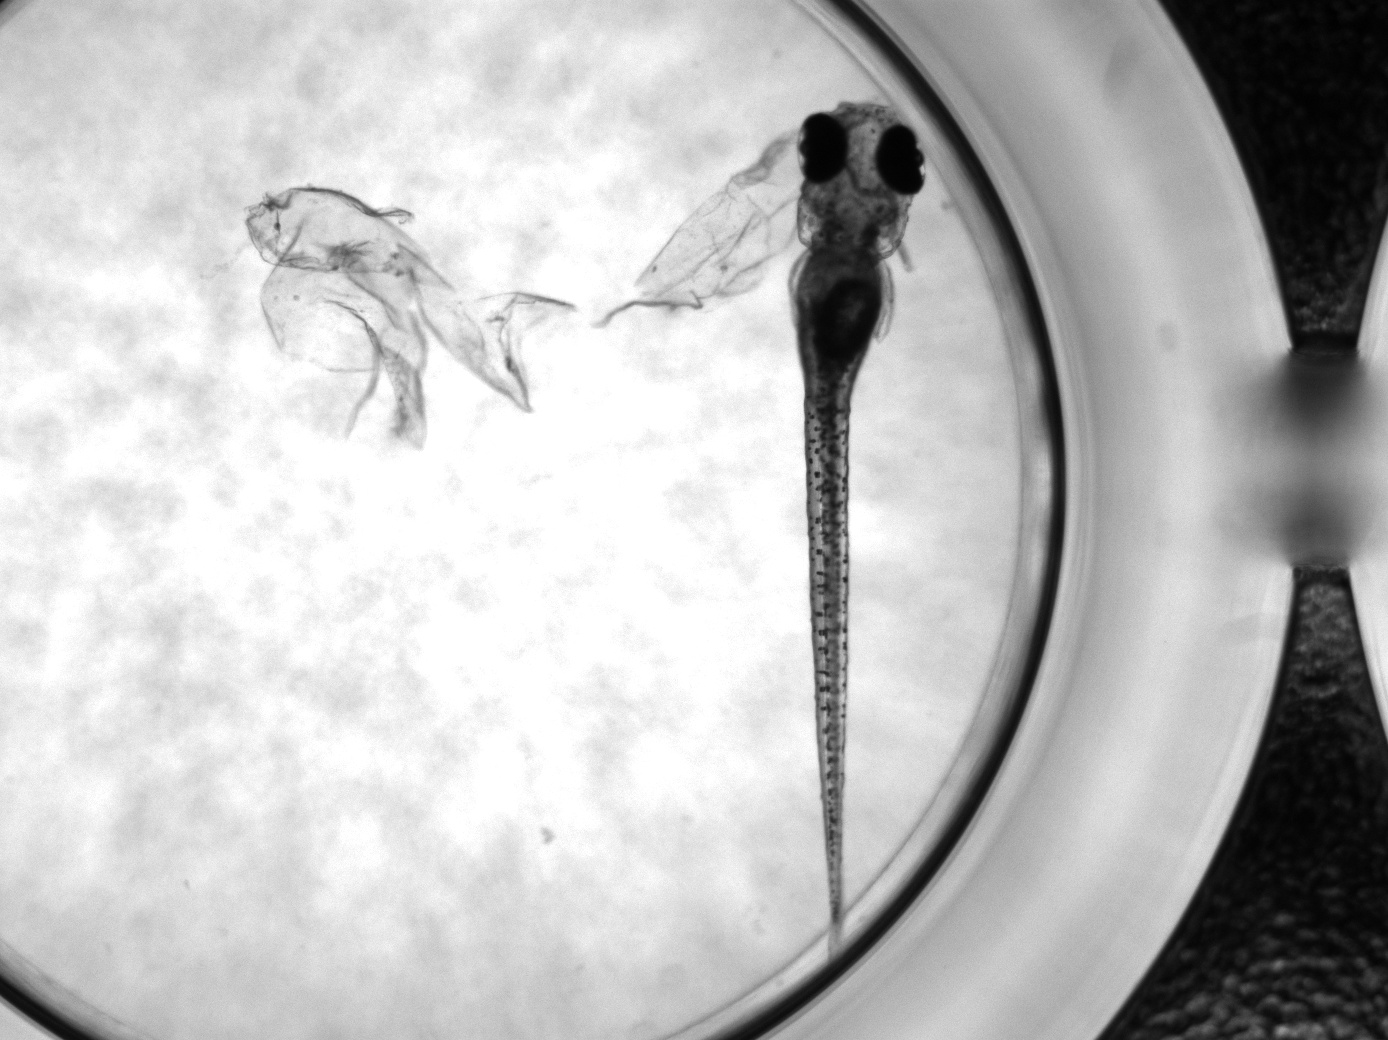debris: (241, 186, 578, 447), (591, 131, 812, 328)
embryo: (788, 99, 926, 939)
eye: (795, 113, 849, 184), (873, 125, 925, 194)
yolksac: (788, 244, 888, 380)
